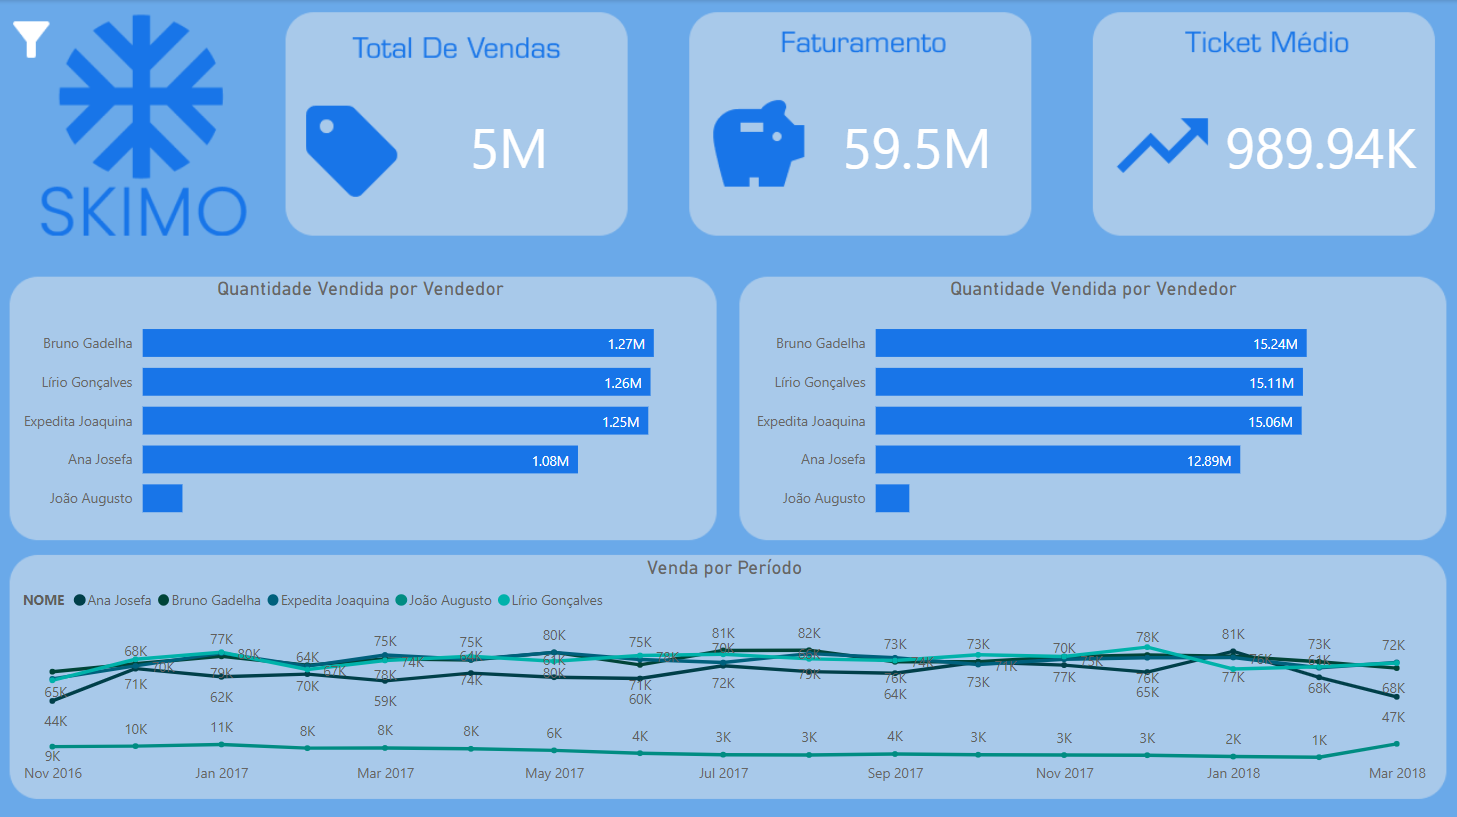

The page's visual inventory and layout, read from the dashboard file:
{"tool":"powerbi","page":{"name":"Vendedores","canvas":[1280,720],"ordinal":1},"visuals":[{"type":"lineChart","title":"Venda por Período","fields":{"Y":["Sum(Dim_itensPedidos.Quantidade_Vendida)"],"Series":["Dim_Vendedores.NOME"],"Category":["_Calendario.Date.Variation.Hierarquia de datas.Ano","_Calendario.Date.Variation.Hierarquia de datas.Mês"]},"box":[17,488,1241,209],"z":0},{"type":"card","title":"TotalVendido","fields":{"Values":["aluraskimo itens_pedido.TotalVendas"]},"box":[350,71,196,112],"z":1000},{"type":"barChart","title":"Quantidade Vendida por Vendedor","fields":{"Y":["Sum(aluraskimo itens_pedido.Quantidade_Vendida)"],"Category":["aluraskimo vendedores.NOME"]},"box":[8,243,620,226],"z":2000},{"type":"card","title":"TotalVendido","fields":{"Values":["Sum(Dim_itensPedidos.Faturamento)"]},"box":[708,71,196,112],"z":3000},{"type":"card","title":"TotalVendido","fields":{"Values":["_Medidas.TicketMedioVendedor"]},"box":[1062,71,196,112],"z":4000},{"type":"barChart","title":"Quantidade Vendida por Vendedor","fields":{"Category":["aluraskimo vendedores.NOME"],"Y":["Sum(Dim_itensPedidos.Faturamento)"]},"box":[651,243,620,226],"z":5000},{"type":"actionButton","box":[0,0,56,60],"z":6000}]}

Visuals, with their boxes in screenshot pixels (x1, y1, x2, y2), scaled from the page's 1280x720 canvas onto the 1457x817 screenshot:
"Venda por Período" lineChart: pyautogui.locateOnScreen(19, 554, 1432, 791)
"TotalVendido" card: pyautogui.locateOnScreen(398, 81, 622, 208)
"Quantidade Vendida por Vendedor" barChart: pyautogui.locateOnScreen(9, 276, 715, 532)
"TotalVendido" card: pyautogui.locateOnScreen(806, 81, 1029, 208)
"TotalVendido" card: pyautogui.locateOnScreen(1209, 81, 1432, 208)
"Quantidade Vendida por Vendedor" barChart: pyautogui.locateOnScreen(741, 276, 1447, 532)
actionButton: pyautogui.locateOnScreen(0, 0, 64, 68)
